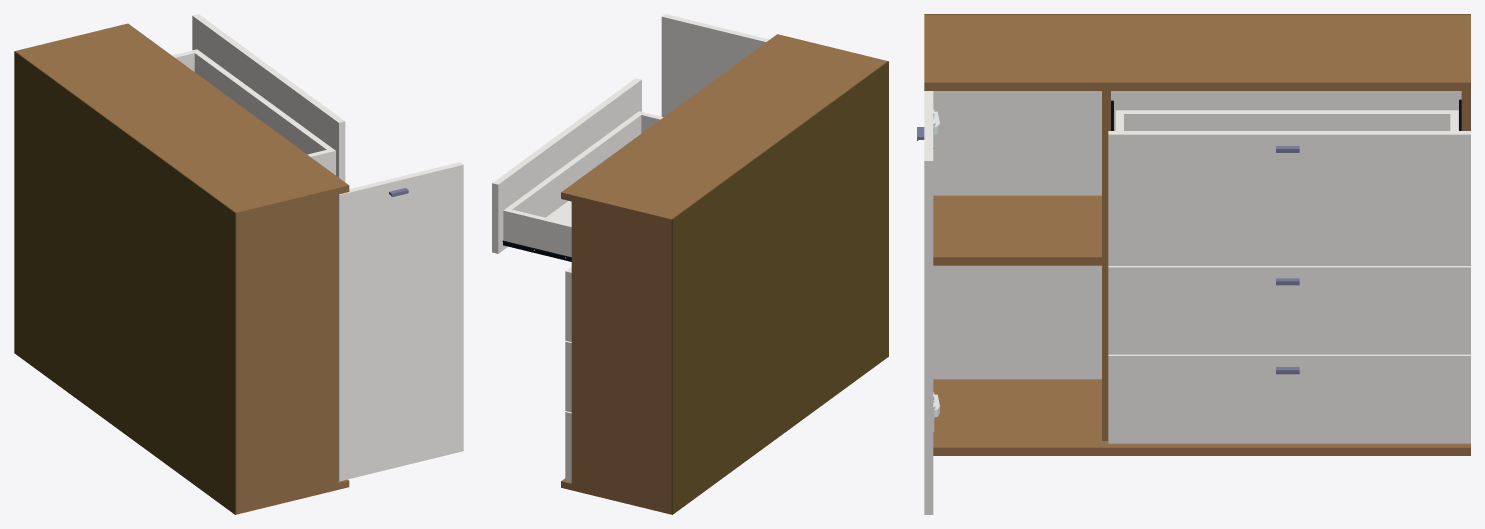
The model's file is comoda-padua_tester.gltf.
The picture shows the model from 3 angles, left to right: view 1: azimuth 30°, elevation 25°; view 2: azimuth 150°, elevation 25°; view 3: azimuth 270°, elevation 25°; orthographic projection. The views are drawn at different scales.
Parts seen in each view (by area): view 1: comoda_padua_estructura.001; view 2: comoda_padua_estructura.001; view 3: comoda_padua_estructura.001.
Part boxes in pixels (left/top/right/bottom): comoda_padua_estructura.001: left=14, top=14, right=463, bottom=514; comoda_padua_estructura.001: left=492, top=14, right=888, bottom=514; comoda_padua_estructura.001: left=917, top=14, right=1470, bottom=514.
Size of the model in its own units: 0.7162 by 0.904 by 1.22.
